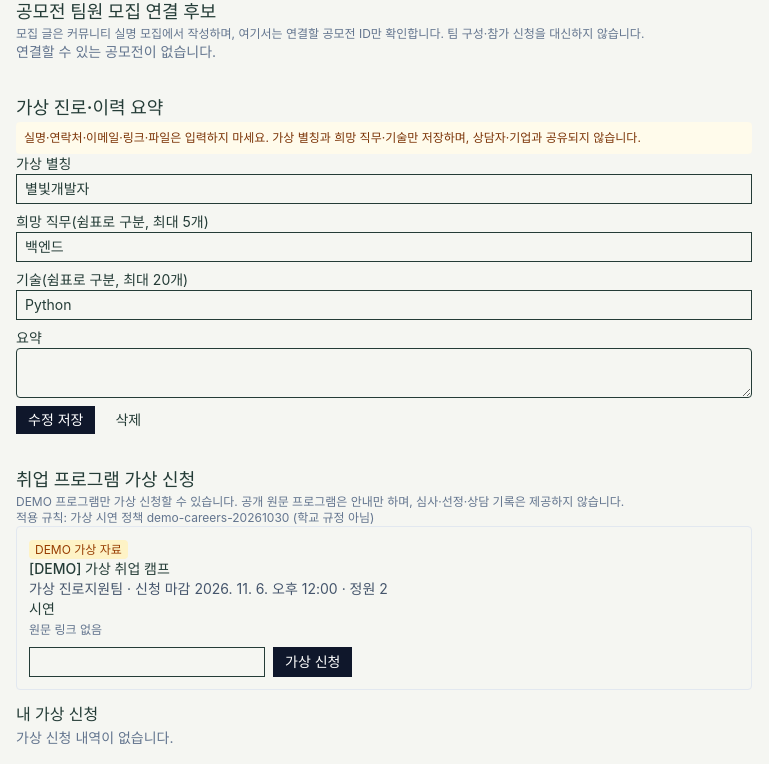
CareersPage › drops a late apply success after 401 and makes no follow-up request; login recheck recovers
(page scrolled)
Type "늦은 메모" into the field named "[DEMO] 가상 취업 캠프 메모" at (147, 662), box top-left (29, 647), bottom-right (265, 677)
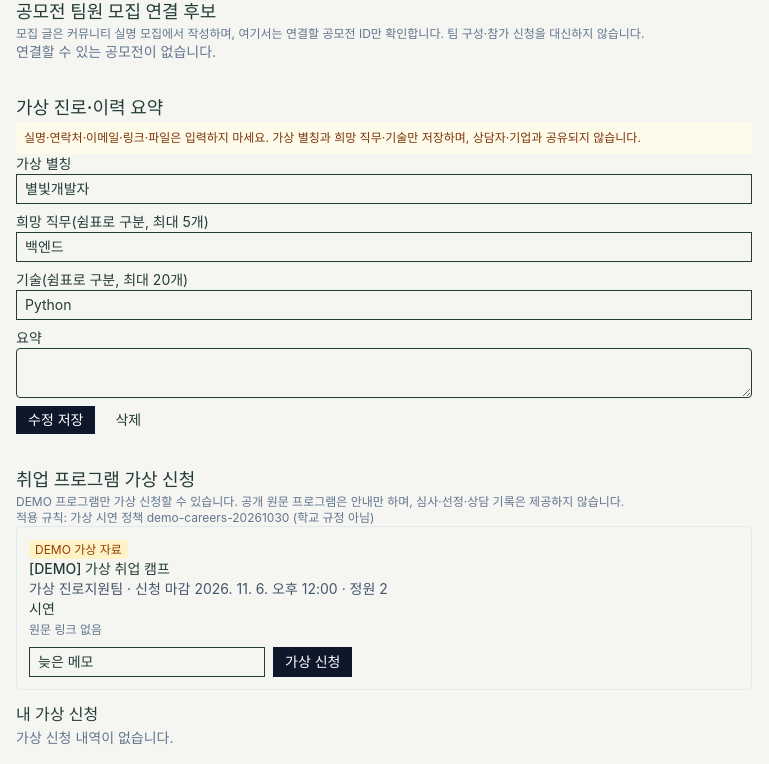
Click the button "가상 신청" at (313, 662), box top-left (273, 647), bottom-right (352, 677)
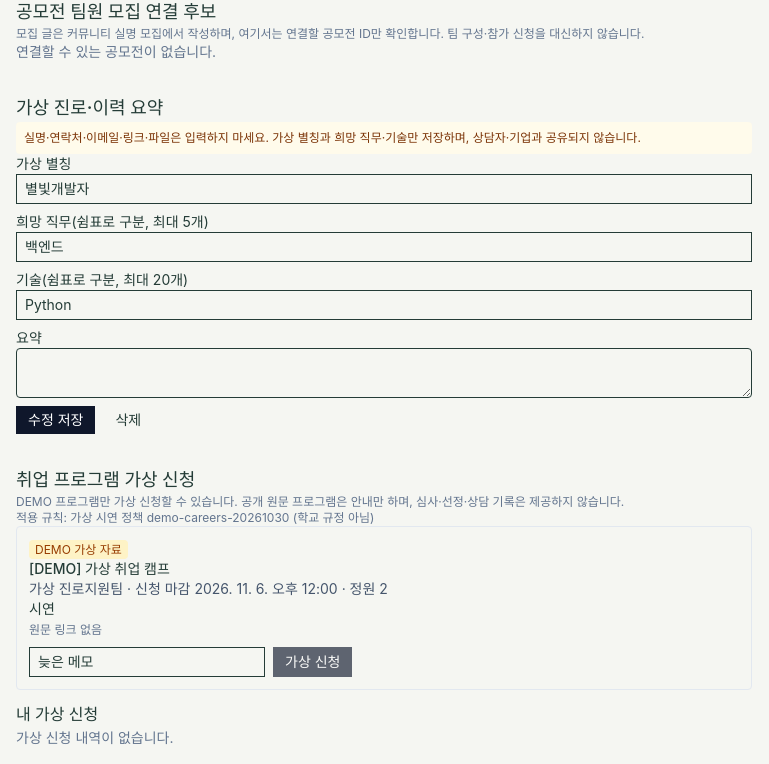
Replace the text in the field showing "별빛개발자" with "새별칭" at (384, 189), box top-left (16, 174), bottom-right (752, 204)
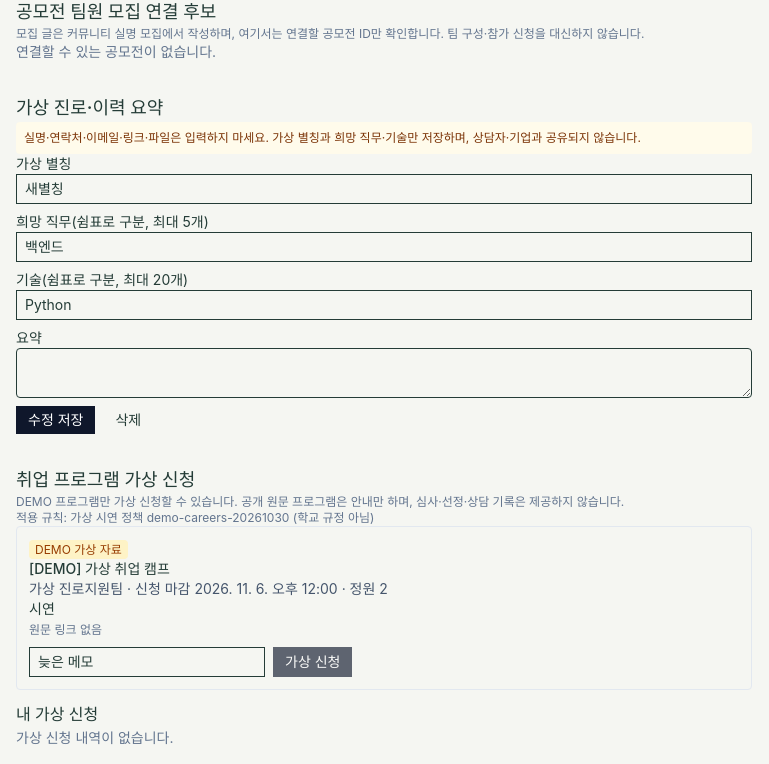
Click the button "수정 저장" at (56, 420), box top-left (16, 406), bottom-right (96, 434)
(page scrolled)
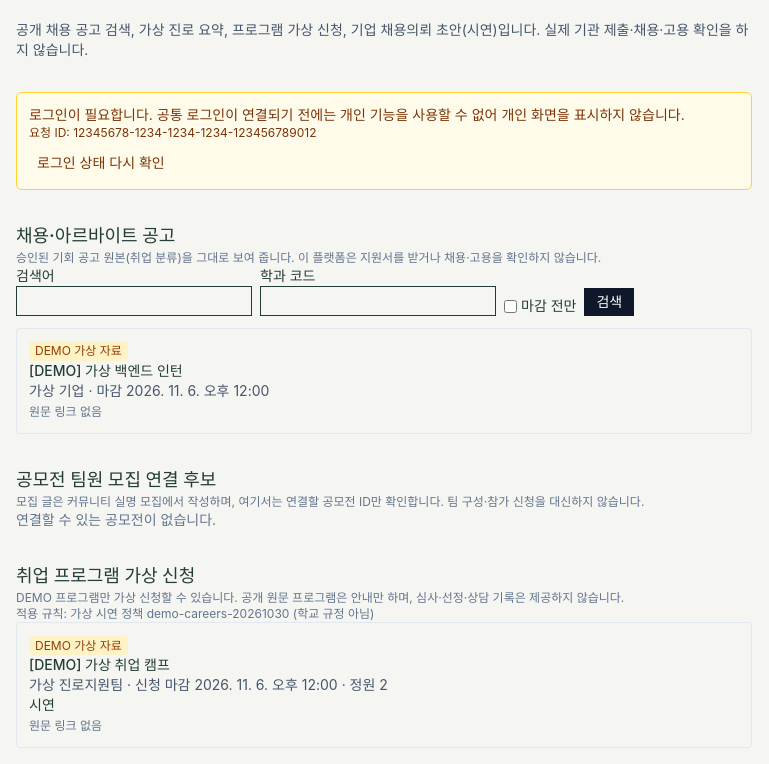
Expected: the field showing "늦은 메모" is not shown
Expected: the text "로그인이 필요합니다" is shown, top-left (29, 106), bottom-right (685, 123)
Expected: the heading "내 가상 신청" is gone
Click the button "로그인 상태 다시 확인" at (101, 163), box top-left (29, 149), bottom-right (173, 177)
(page scrolled)
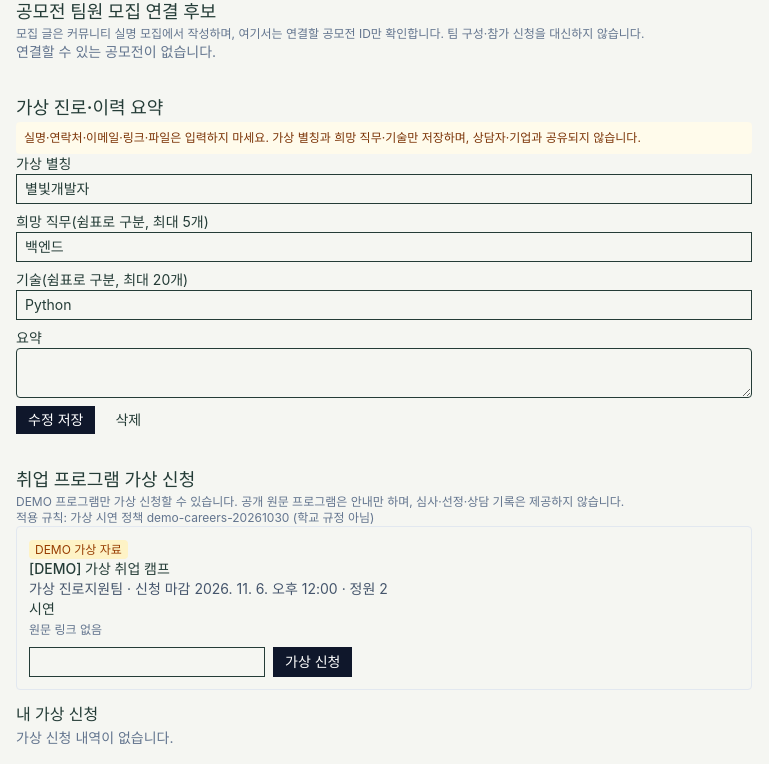
Expected: the field showing "별빛개발자" is shown, top-left (16, 174), bottom-right (752, 204)
